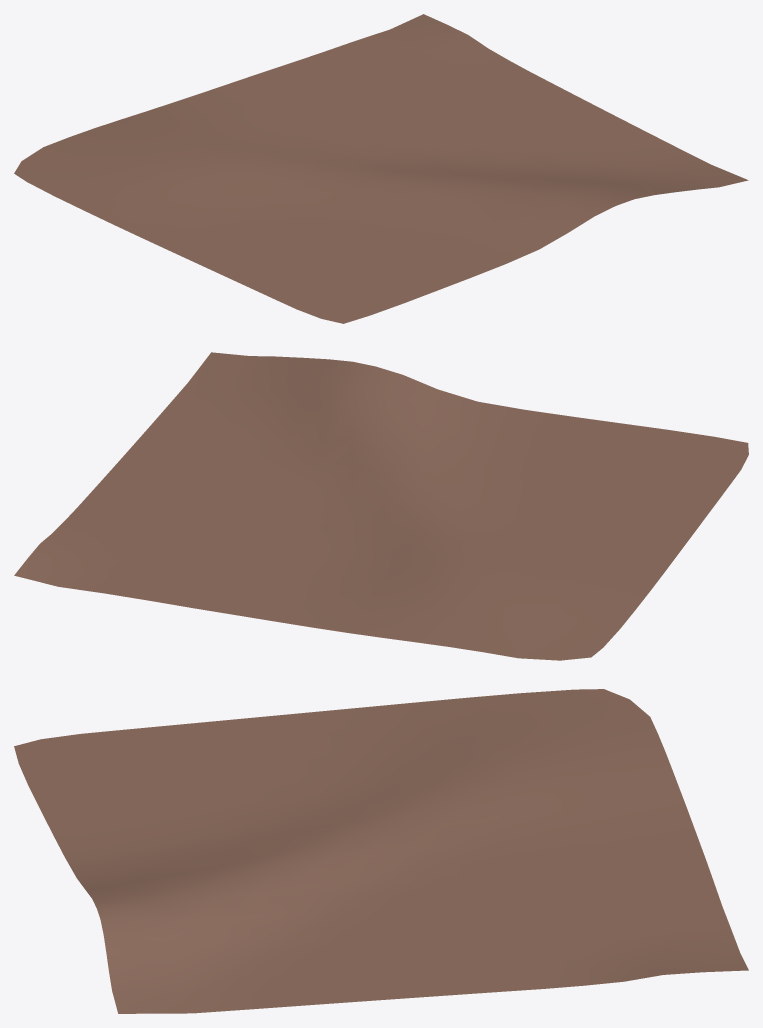
The model's file is carpet_M.fbx.
3 renders of one model, top to bottom at view 1: azimuth 30°, elevation 25°; view 2: azimuth 150°, elevation 25°; view 3: azimuth 270°, elevation 25°, orthographic. The views are drawn at different scales.
Parts seen in each view (by area): view 1: carpet_m; view 2: carpet_m; view 3: carpet_m.
Part boxes in pixels (x1=…): carpet_m: x1=14, y1=14, x2=748, y2=323; carpet_m: x1=14, y1=352, x2=748, y2=660; carpet_m: x1=14, y1=689, x2=748, y2=1013.
Bounding box in the file's own units: 317 × 11.6 × 299.
